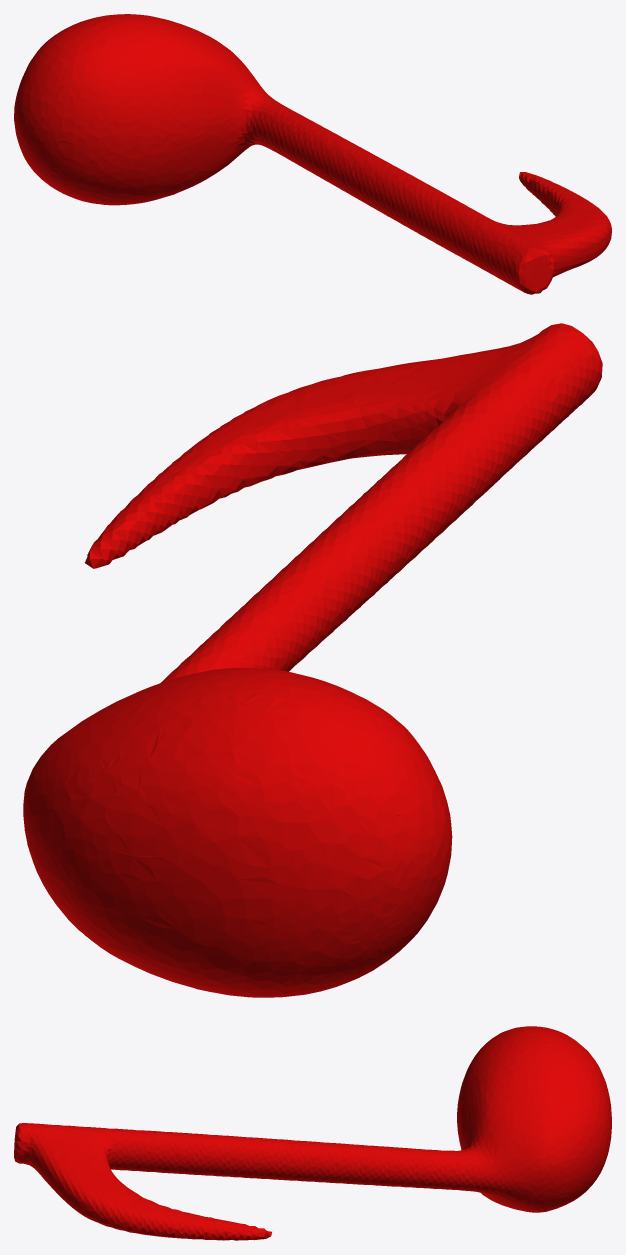
Rendered from rednote.obj.
3 views of the same model, one above another, from view 1: azimuth 30°, elevation 25°; view 2: azimuth 150°, elevation 25°; view 3: azimuth 270°, elevation 25° (orthographic). The views are drawn at different scales.
Visible parts, largest first — view 1: Layer_1; view 2: Layer_1; view 3: Layer_1.
Boxes of the visible parts, <box> form: Layer_1: <box>14,14,611,294</box>; Layer_1: <box>23,323,602,997</box>; Layer_1: <box>14,1026,611,1240</box>.
Bounding box in the file's own units: 0.1173 × 0.0543 × 0.1945.
